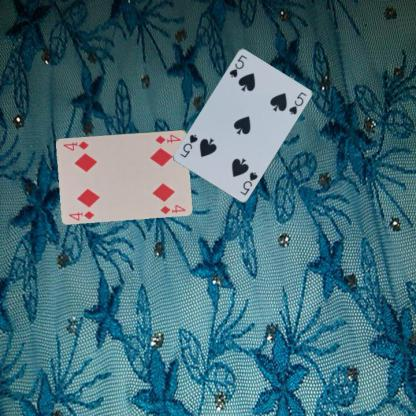4d: (66, 208, 96, 221), (153, 132, 182, 145)
5s: (226, 52, 249, 79), (237, 170, 259, 196)
